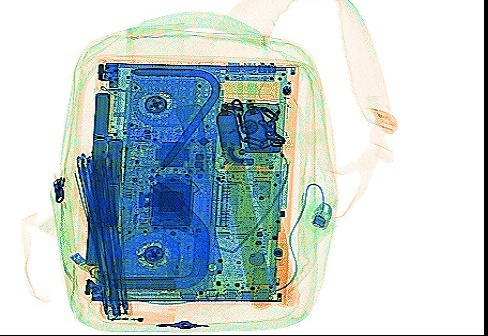knife: (148, 103, 225, 279)
lighter: (107, 304, 179, 327)
